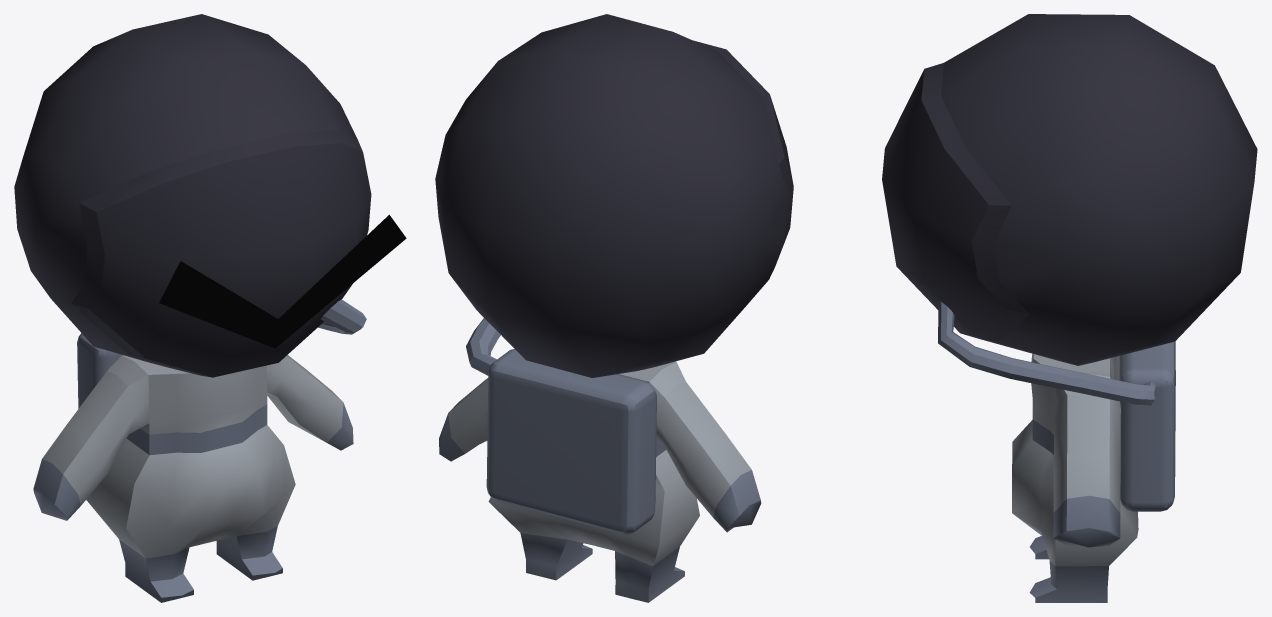
The model's file is astronautenemy.fbx.
3 renders of one model, left to right at view 1: azimuth 30°, elevation 25°; view 2: azimuth 150°, elevation 25°; view 3: azimuth 270°, elevation 25°, orthographic.
Parts seen in each view (by area): view 1: astro; view 2: astro; view 3: astro.
Boxes of the visible parts, <box> form: astro: <box>14,14,406,602</box>; astro: <box>435,14,793,602</box>; astro: <box>882,14,1257,602</box>.
Size of the model in its own units: 5.02 by 8.26 by 5.38.
